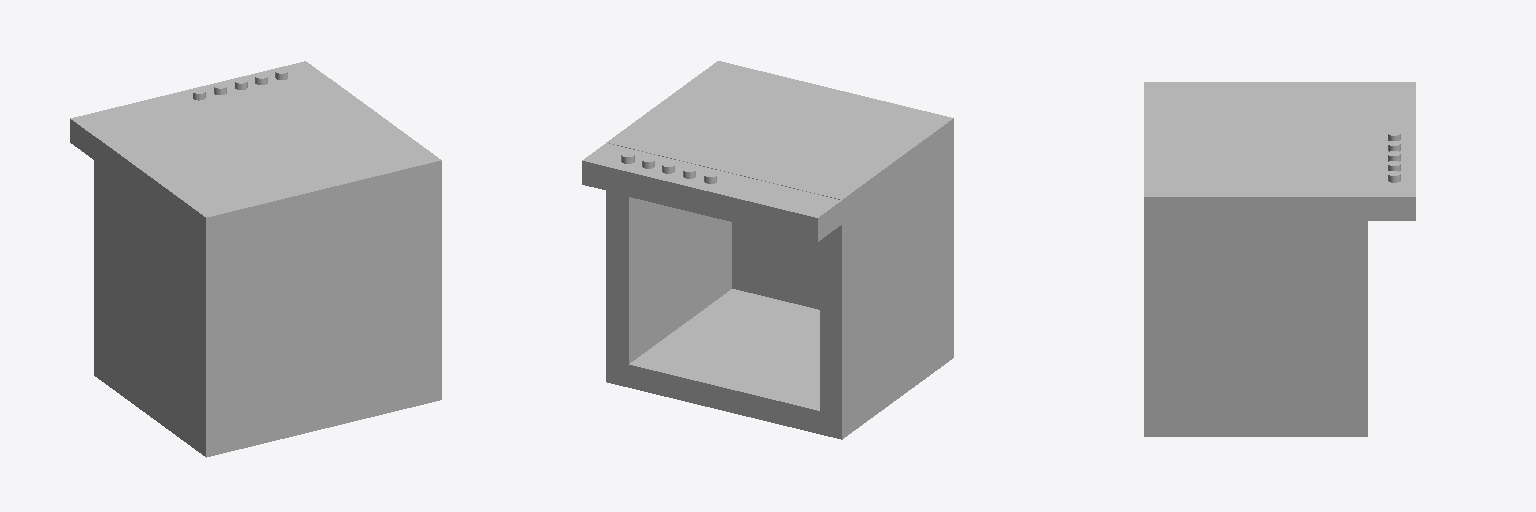
Rendered from oven_body.obj.
The picture shows the model from 3 angles: view 1: azimuth 30°, elevation 25°; view 2: azimuth 150°, elevation 25°; view 3: azimuth 270°, elevation 25°; orthographic projection.
Parts seen in each view (by area): view 1: Oven_Cube; view 2: Oven_Cube; view 3: Oven_Cube.
Part boxes in pixels (bbox=[...]): Oven_Cube: bbox=[70, 61, 441, 457]; Oven_Cube: bbox=[582, 61, 953, 439]; Oven_Cube: bbox=[1144, 82, 1415, 436].
Bounding box in the file's own units: 2 × 2 × 2.